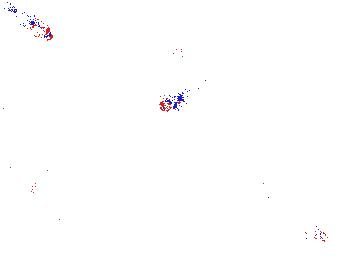X-ray fish: (304, 222, 326, 245), (251, 134, 267, 161)
red belly glassfish: (12, 6, 53, 44), (158, 92, 183, 113), (161, 45, 185, 62)
